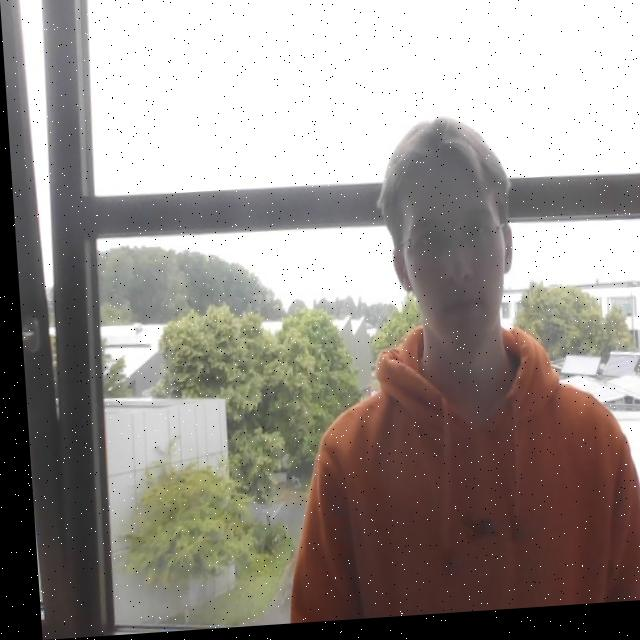opened_eye: (460, 219, 499, 246), (415, 230, 444, 258)
